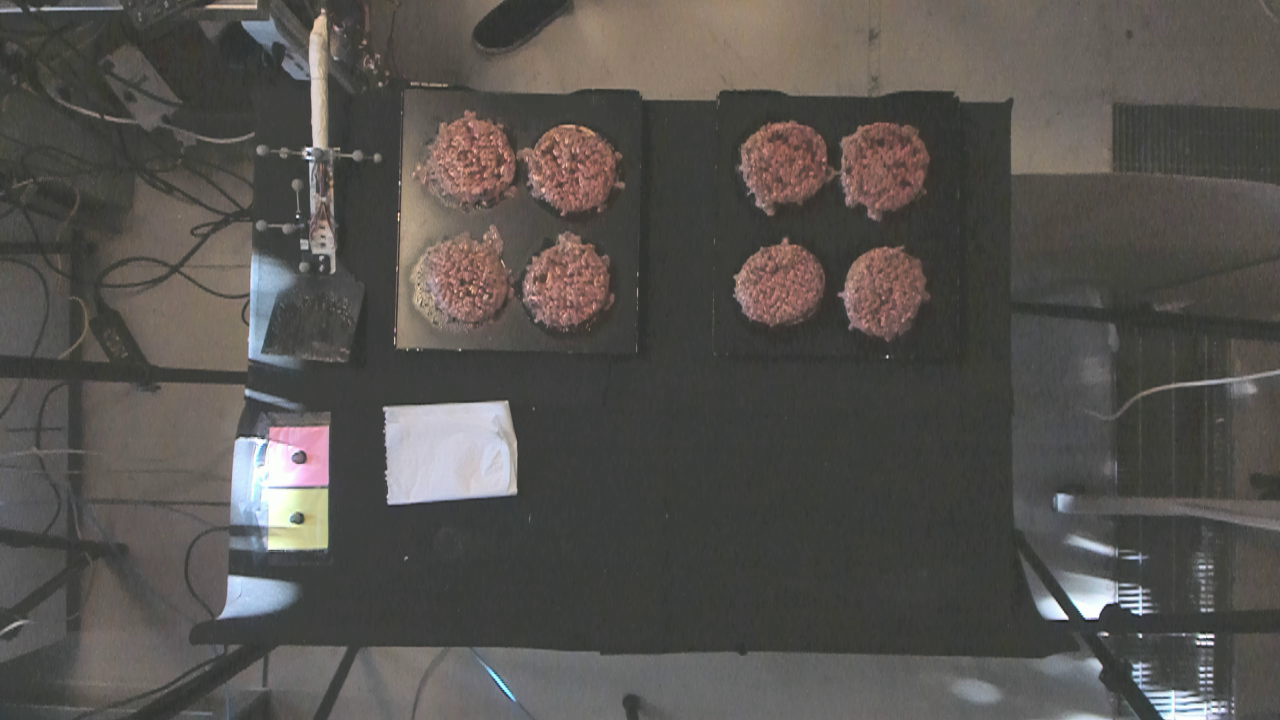hamburger: (519, 241, 617, 333), (724, 240, 827, 327), (739, 117, 830, 214), (840, 119, 928, 216), (840, 249, 929, 340), (425, 235, 507, 328), (529, 128, 614, 214), (429, 113, 513, 198)
marker: (268, 427, 330, 485)
